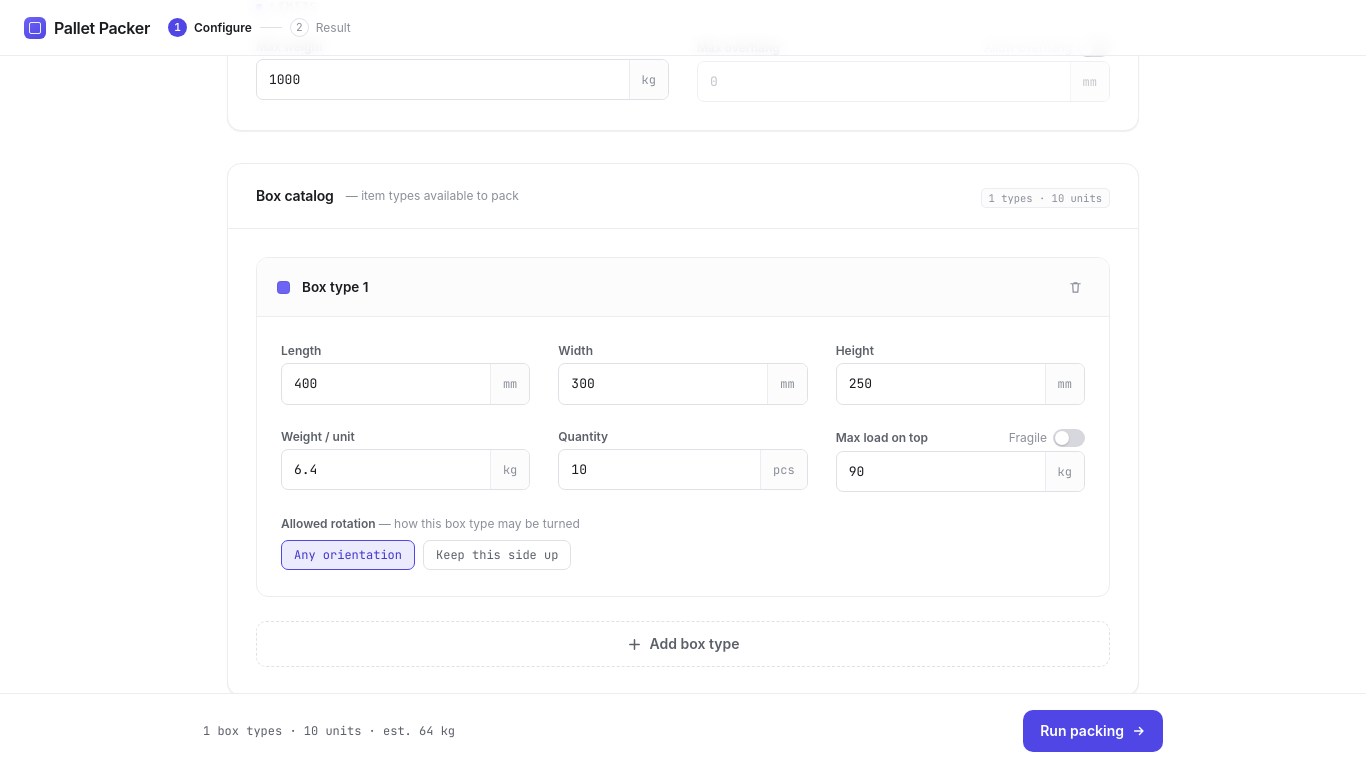
Scenario: ConfigForm — Run gate (D-06) › a box too big for the pallet blocks Run with an inline fit message (D-01/BOX-06)
(page scrolled)
Replace the text in the number field labelled "Length" with "5000" at (386, 384), box [282,364,490,404]
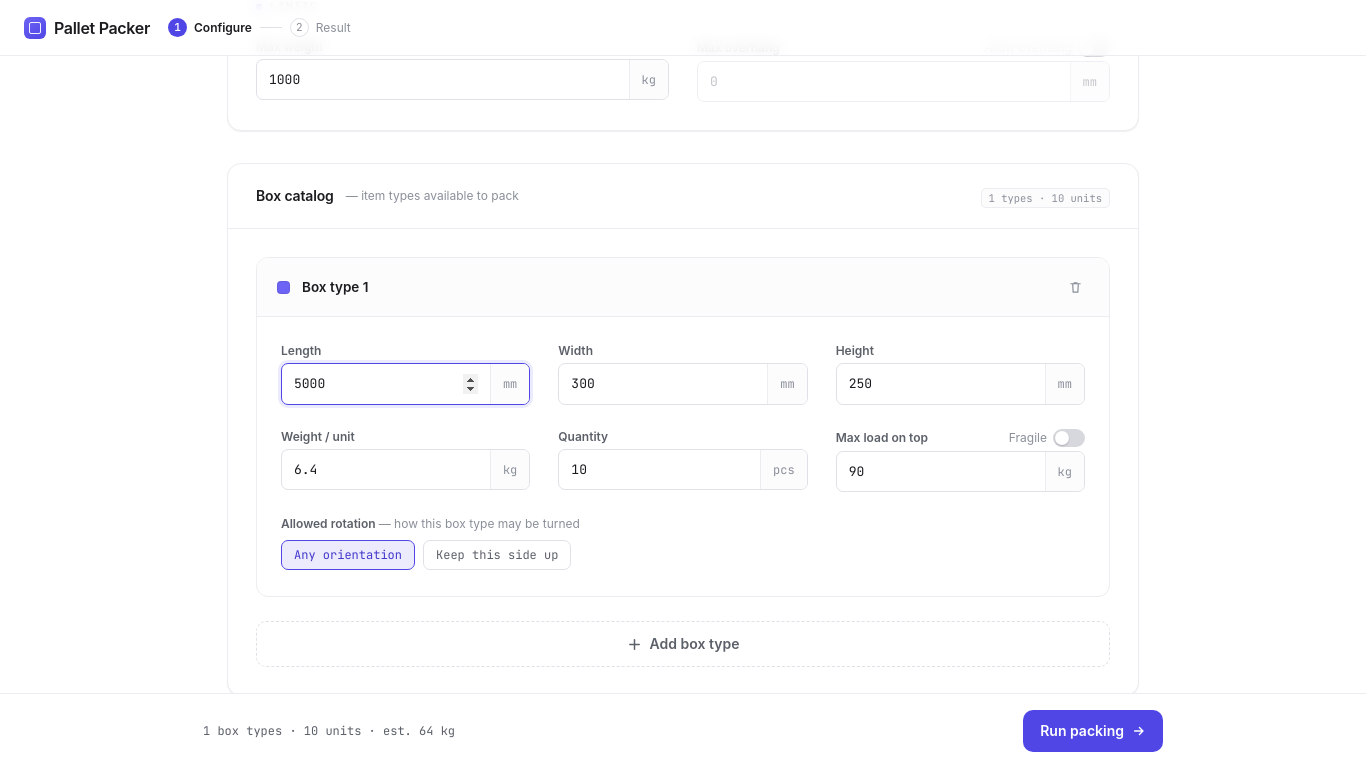
Click the button "Run packing" at (1093, 731), box [1023,710,1163,752]
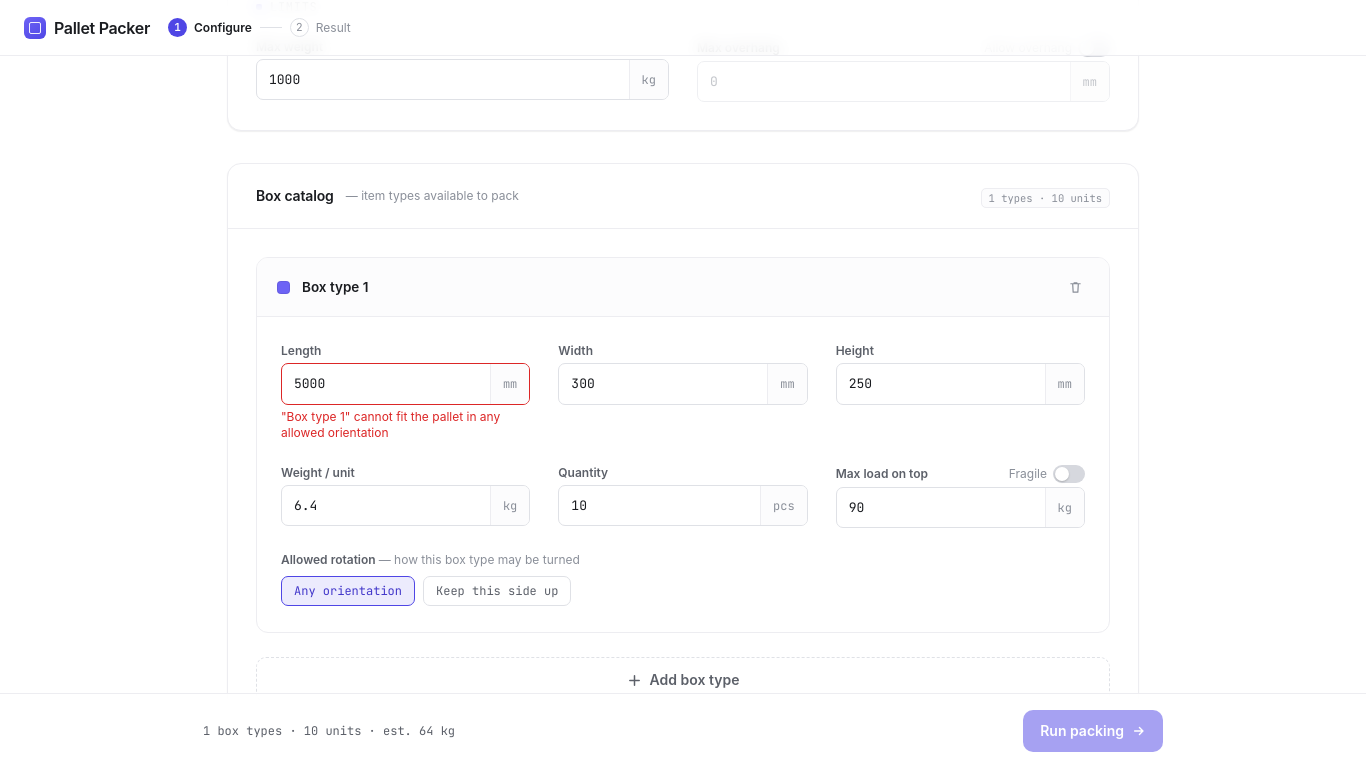
Check: the text "\"Box type 1\" cannot fit the pallet in any allowed orientation" is shown, box [281,409,530,441]
